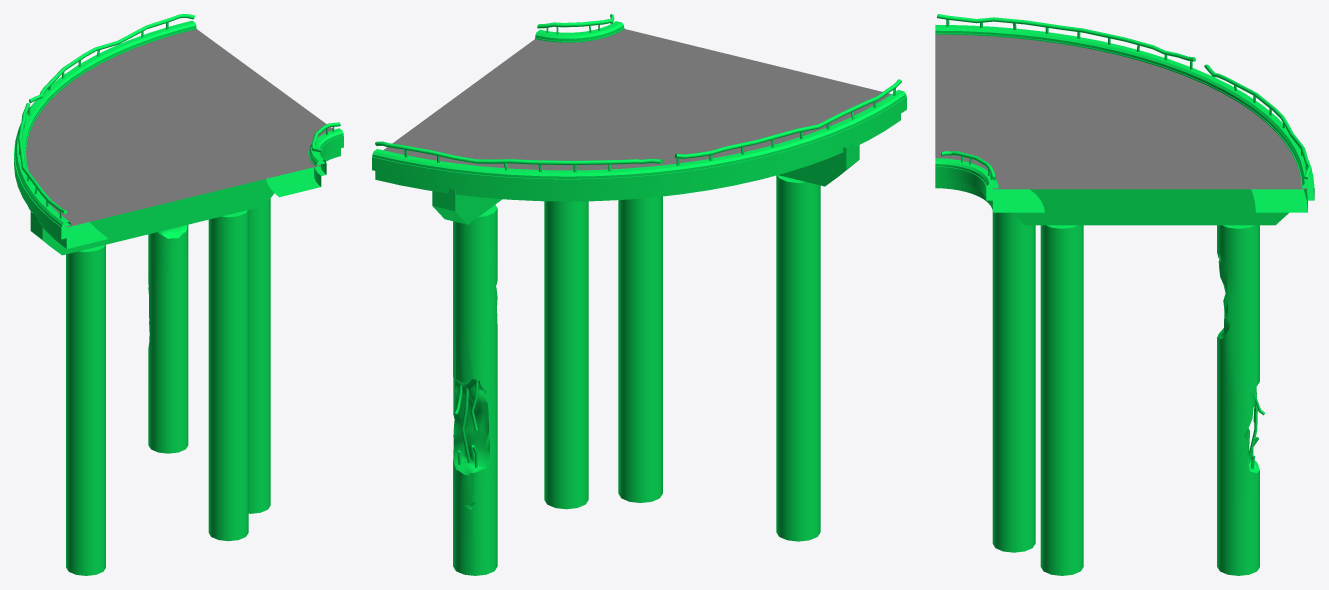
Rendered from Track_Asphalt_02.fbx.
3 views of the same model, side by side, from view 1: azimuth 30°, elevation 25°; view 2: azimuth 150°, elevation 25°; view 3: azimuth 270°, elevation 25° (orthographic). The views are drawn at different scales.
Visible parts, largest first — view 1: Track_Asphalt_02, Road; view 2: Track_Asphalt_02, Road; view 3: Track_Asphalt_02, Road.
Boxes of the visible parts, bbox=[...] form: Track_Asphalt_02: bbox=[14, 14, 343, 575]; Road: bbox=[26, 29, 332, 227]; Track_Asphalt_02: bbox=[372, 14, 906, 575]; Road: bbox=[383, 29, 891, 170]; Track_Asphalt_02: bbox=[935, 14, 1314, 575]; Road: bbox=[935, 34, 1307, 189].
Size of what is drawn, in the model's own units: 2650 by 2645 by 3276.
